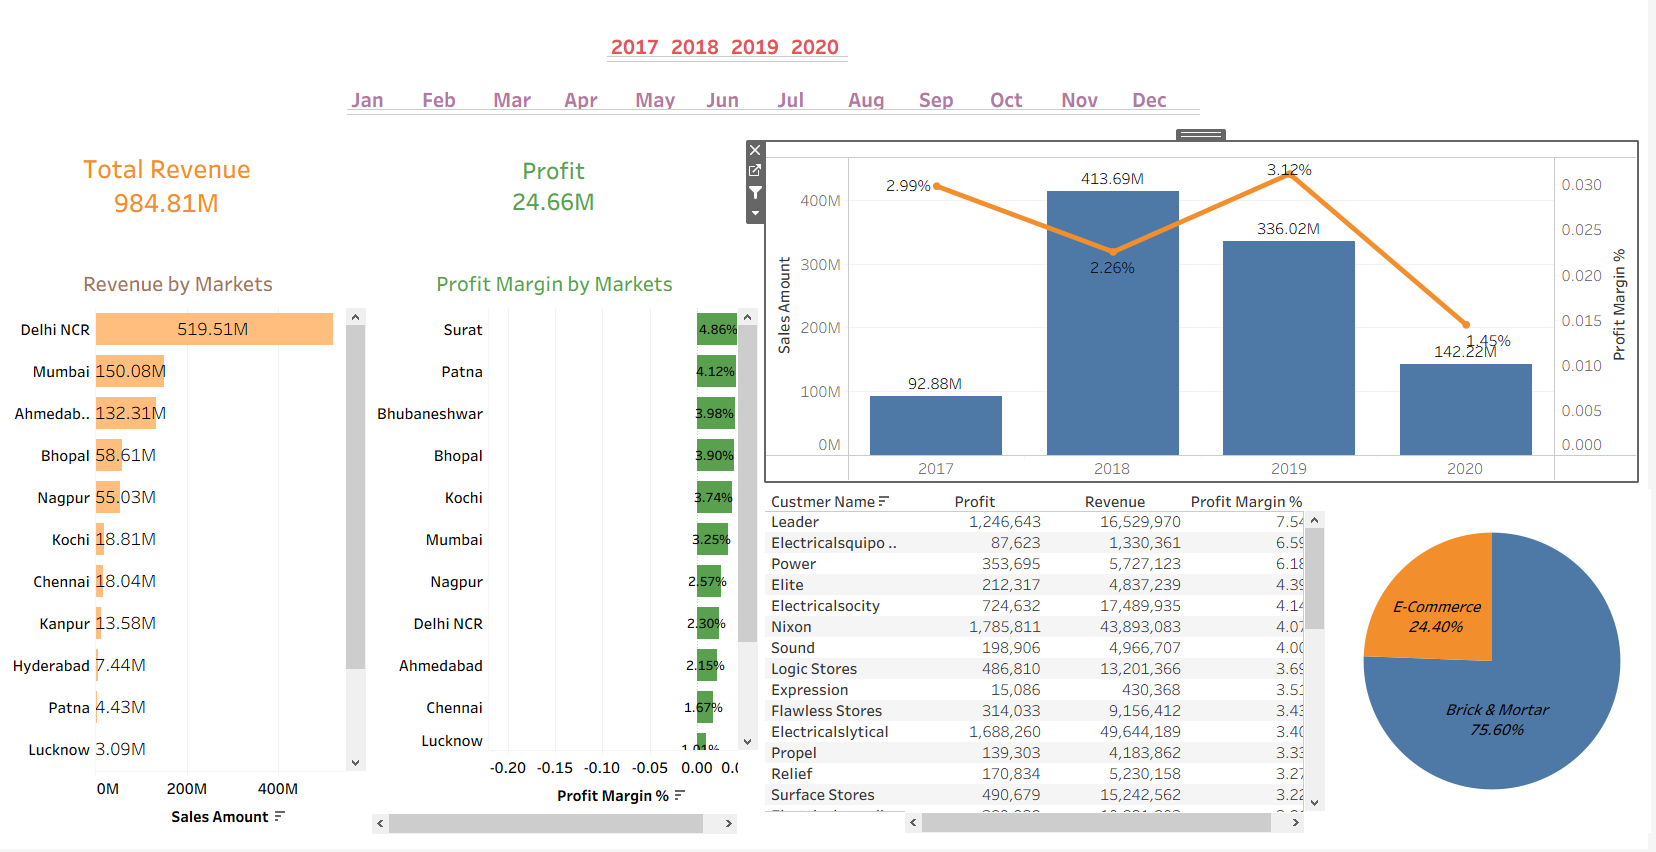

The page's visual inventory and layout, read from the dashboard file:
{"tool":"tableau","page":{"name":"Atliq Hardware Sales Dashboard of Profit","canvas":[1650,850],"ordinal":0},"visuals":[{"type":"worksheet","title":"Year","mark":"Automatic","cols":["cy_date"],"box":[609,21,318,56]},{"type":"worksheet","title":"Months","mark":"Automatic","cols":["cy_date"],"box":[349,75,895,60]},{"type":"worksheet","title":"Total Revenue","mark":"Automatic","box":[79,137,236,107]},{"type":"worksheet","title":"Profit Trend","mark":"Bar","rows":["sales_amount","Calculation_0564630483410944"],"cols":["cy_date","cy_date"],"box":[768,143,871,339]},{"type":"worksheet","title":"Profit","mark":"Automatic","box":[506,155,189,87]},{"type":"worksheet","title":"Revenue by Markets","mark":"Automatic","rows":["markets_name"],"cols":["sales_amount"],"box":[13,266,355,569]},{"type":"worksheet","title":"Profit Margin by Markets","mark":"Automatic","rows":["markets_name"],"cols":["Calculation_0564630483410944"],"box":[374,266,386,569]},{"type":"worksheet","title":"Customer Type","mark":"Pie","box":[1335,490,318,344]},{"type":"worksheet","title":"Customer Table","mark":"Automatic","rows":["custmer_name"],"box":[767,492,560,342]}]}

Visuals, with their boxes in screenshot pixels (x1, y1, x2, y2), scaled from the page's 1650x850 canvas onto the 1656x852 screenshot:
"Year" worksheet: 611 21 930 77
"Months" worksheet: 350 75 1249 135
"Total Revenue" worksheet: 79 137 316 245
"Profit Trend" worksheet (Bar marks): 771 143 1645 483
"Profit" worksheet: 508 155 698 243
"Revenue by Markets" worksheet: 13 267 369 837
"Profit Margin by Markets" worksheet: 375 267 763 837
"Customer Type" worksheet (Pie marks): 1340 491 1655 836
"Customer Table" worksheet: 770 493 1332 836
